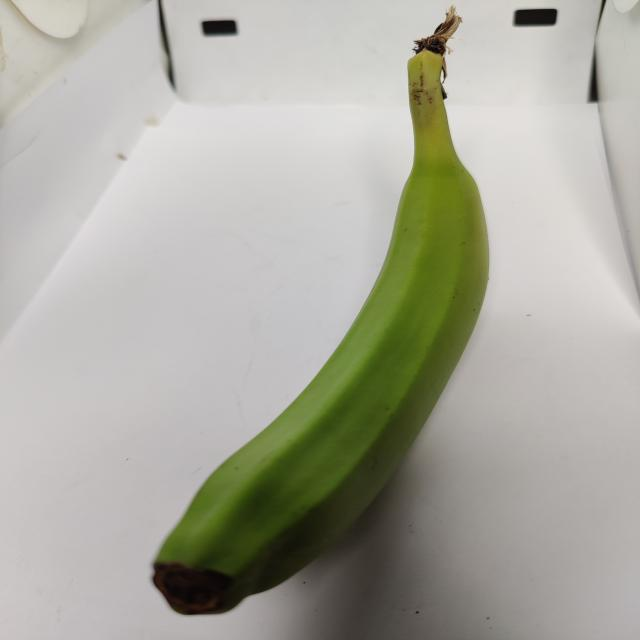raw: (104, 52, 520, 625)
